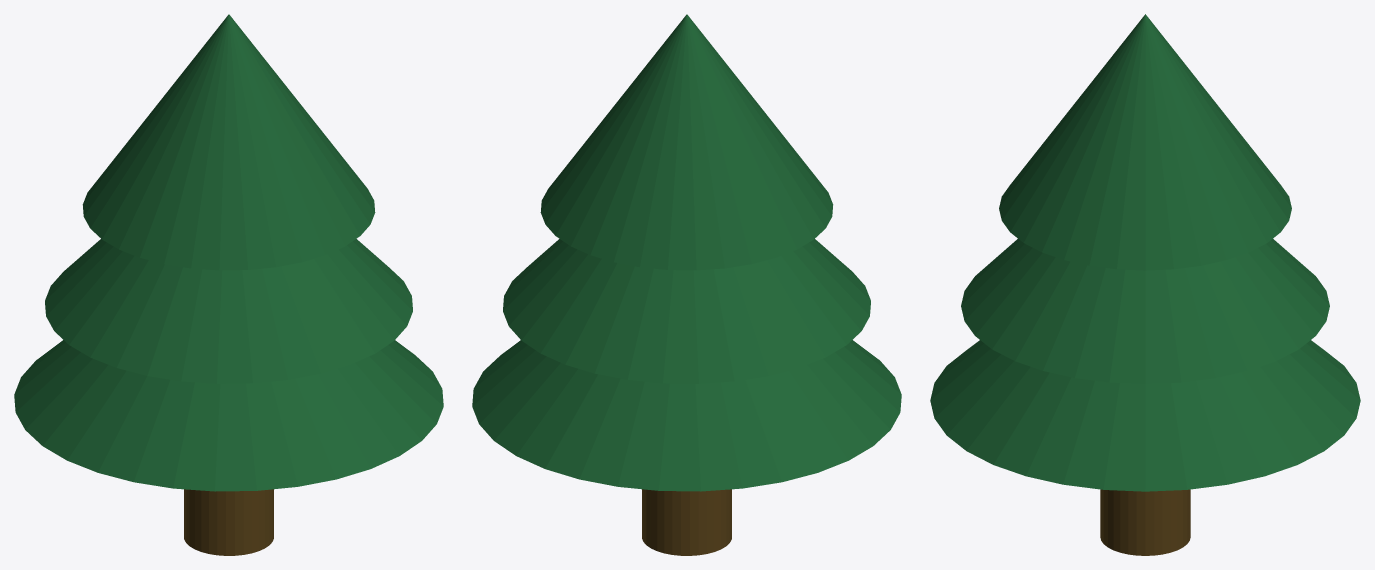
Rendered from arbol.fbx.
The picture shows the model from 3 angles, left to right: view 1: azimuth 30°, elevation 25°; view 2: azimuth 150°, elevation 25°; view 3: azimuth 270°, elevation 25°; orthographic projection.
Visible parts, largest first — view 1: arbol; view 2: arbol; view 3: arbol.
Part boxes in pixels (x1,y1,x2,y2): arbol: (14,14,443,555); arbol: (472,14,901,555); arbol: (930,14,1360,555).
Size of the model in its own units: 367 by 492 by 367.
